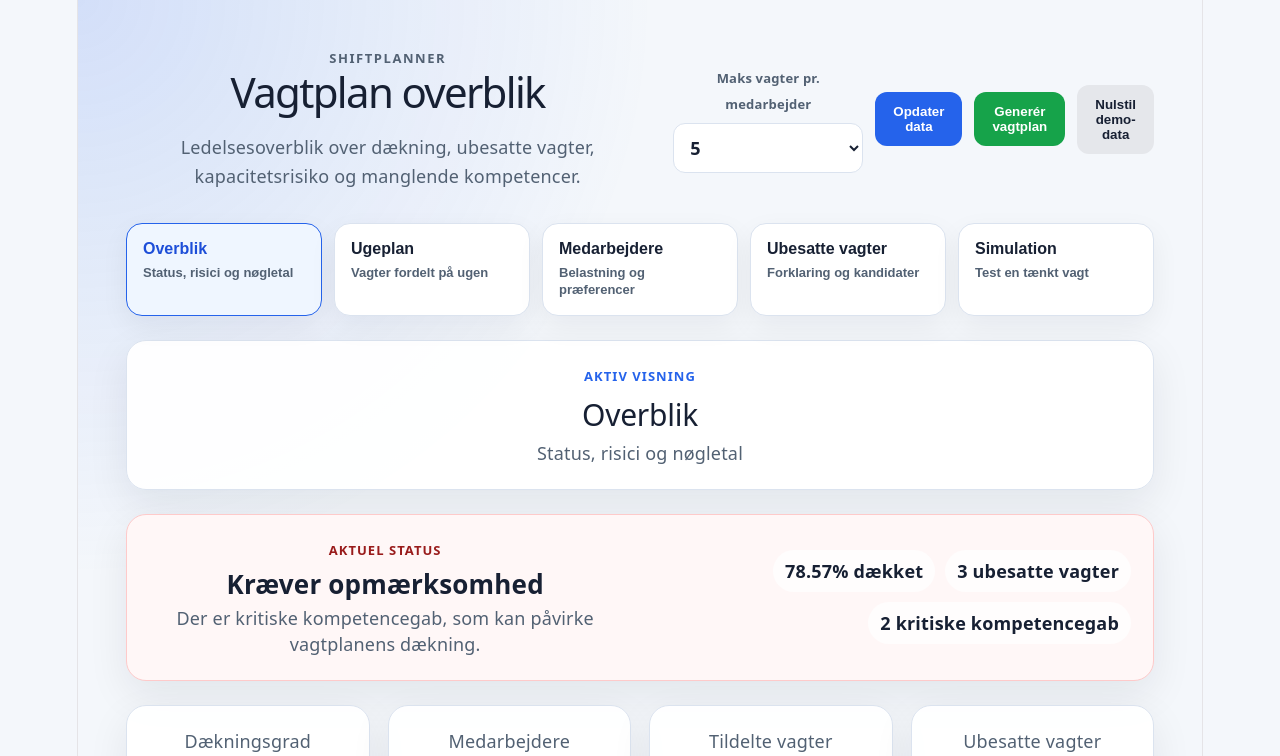
Test: App › keeps the dashboard visible while refreshing after generating a schedule
This screenshot has width=1280, height=756.
Click the button "Generér vagtplan" at (1020, 119), box [974,92,1065,146]
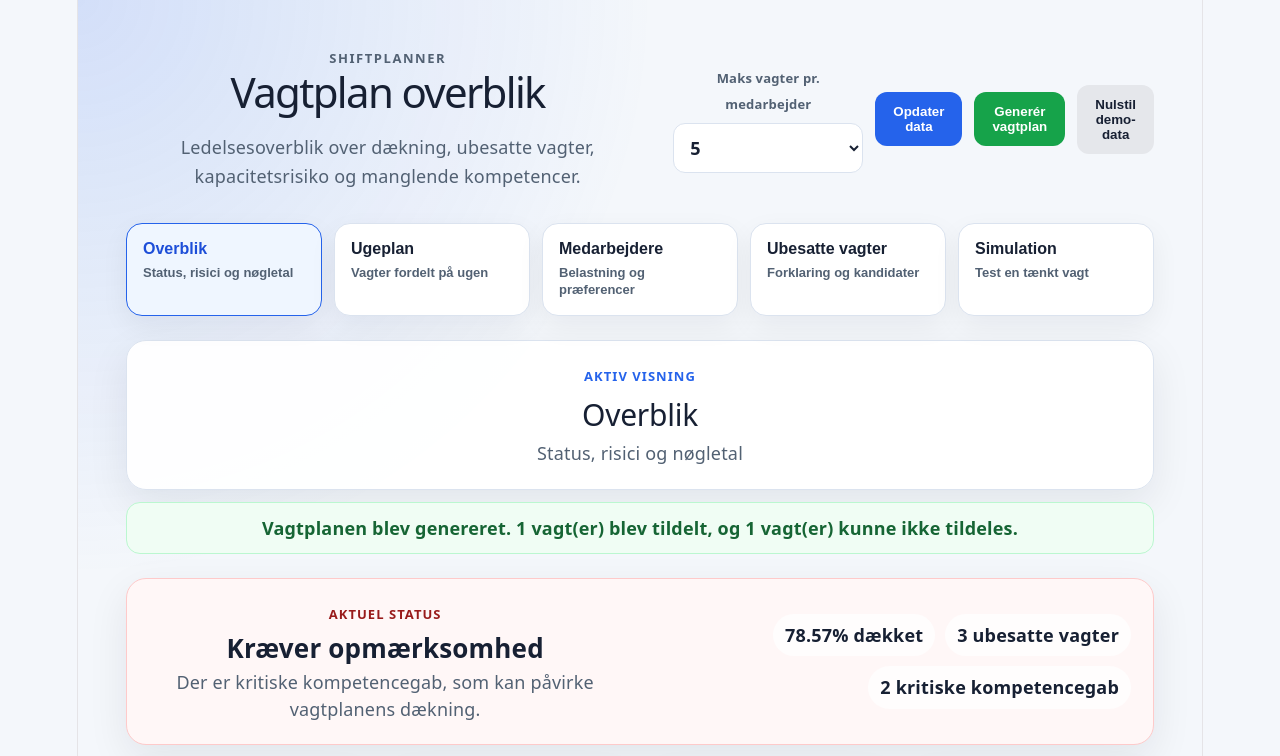
Expected: the navigation bar named "Dashboard navigation" is shown, [126,223,1154,316]
Now the text "Vagtplanen blev genereret. 1 vagt(er) blev tildelt, og 1 vagt(er) kunne ikke tildeles." is shown, box [262,516,1018,540]
